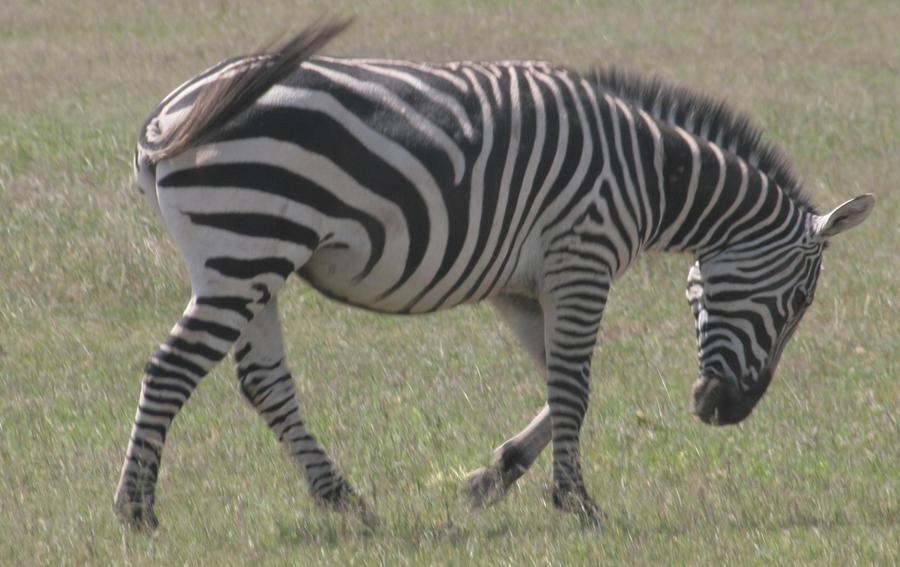zebra_plains: (158, 38, 648, 314)
